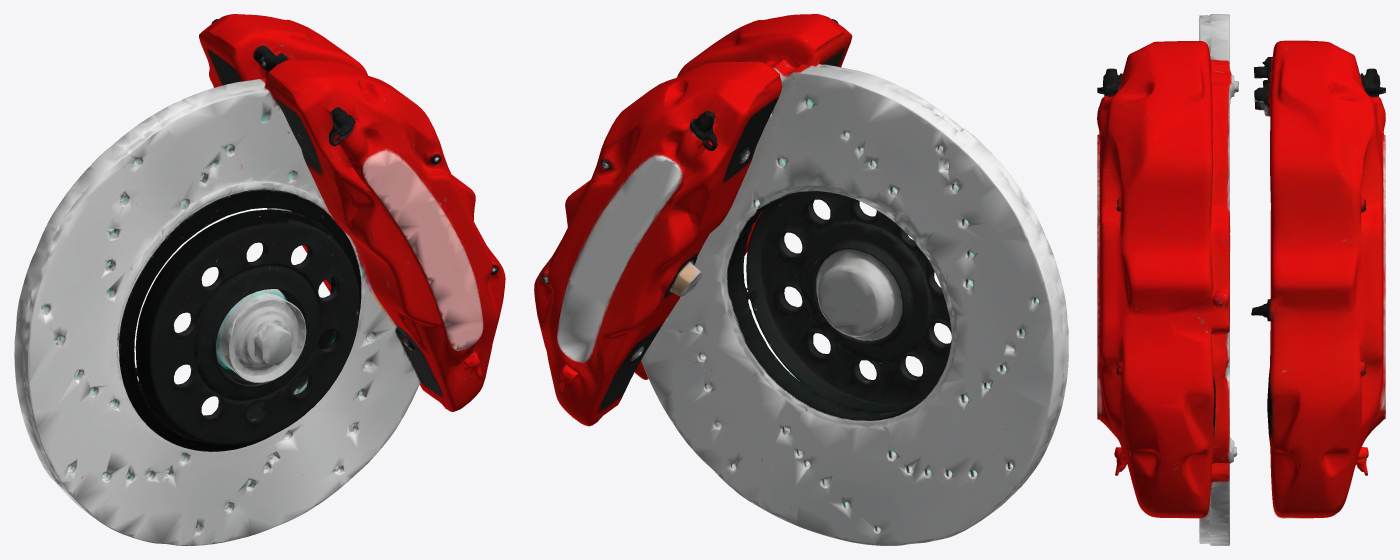
The model's file is rem-hq.glb.
3 views of the same model, side by side, from view 1: azimuth 30°, elevation 25°; view 2: azimuth 150°, elevation 25°; view 3: azimuth 270°, elevation 25° (orthographic). The views are drawn at different scales.
Size of the model in its own units: 1.9 by 1.87 by 0.9795.
Materials: 1 (1 with a texture image).
